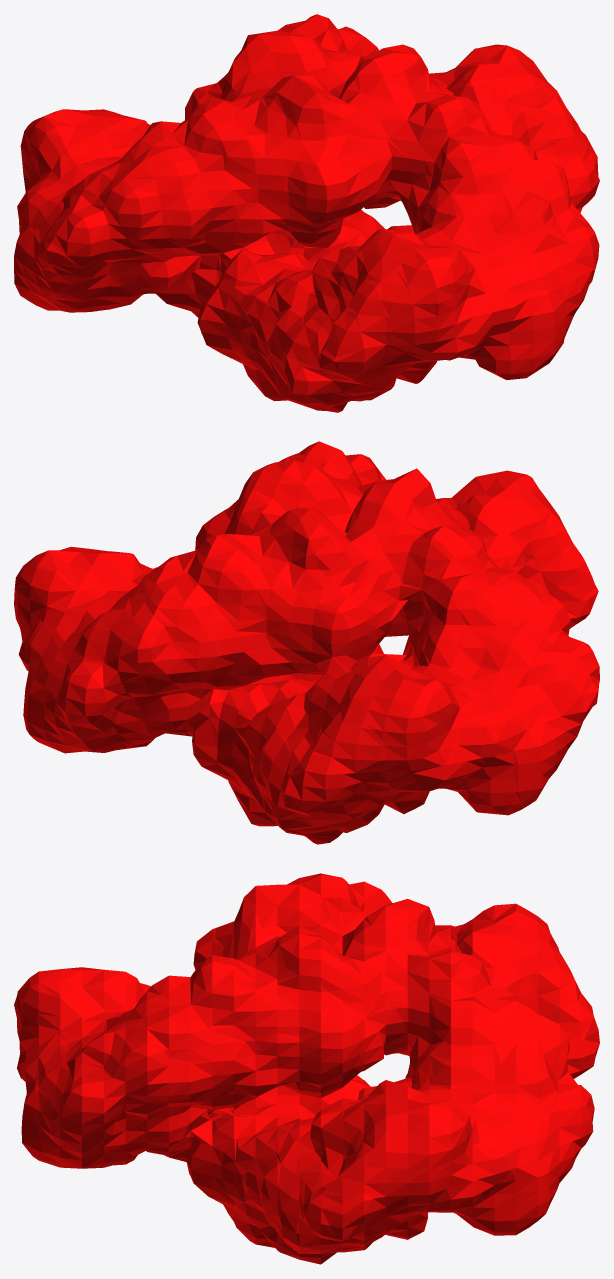
The model's file is Heat_shock_protein_HSP_90_alph_coarse.dae.
The picture shows the model from 3 angles, top to bottom: view 1: azimuth 30°, elevation 25°; view 2: azimuth 150°, elevation 25°; view 3: azimuth 270°, elevation 25°; orthographic projection.
Parts seen in each view (by area): view 1: Heat_shock_protein_HSP_90_alph; view 2: Heat_shock_protein_HSP_90_alph; view 3: Heat_shock_protein_HSP_90_alph.
Part boxes in pixels (x1,y1,x2,y2): Heat_shock_protein_HSP_90_alph: [14, 14, 599, 412]; Heat_shock_protein_HSP_90_alph: [14, 441, 599, 844]; Heat_shock_protein_HSP_90_alph: [14, 873, 599, 1264].
Bounding box in the file's own units: 154 × 86.71 × 144.
